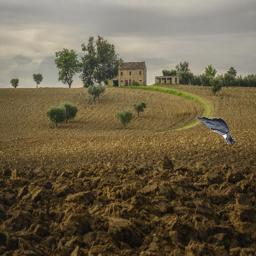Crow: (196, 116, 236, 144)
